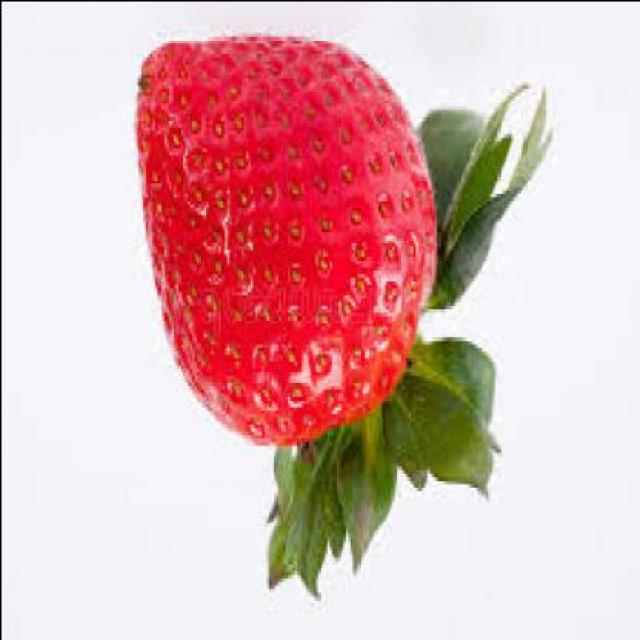BIODEGRADABLE: (131, 36, 558, 602)
